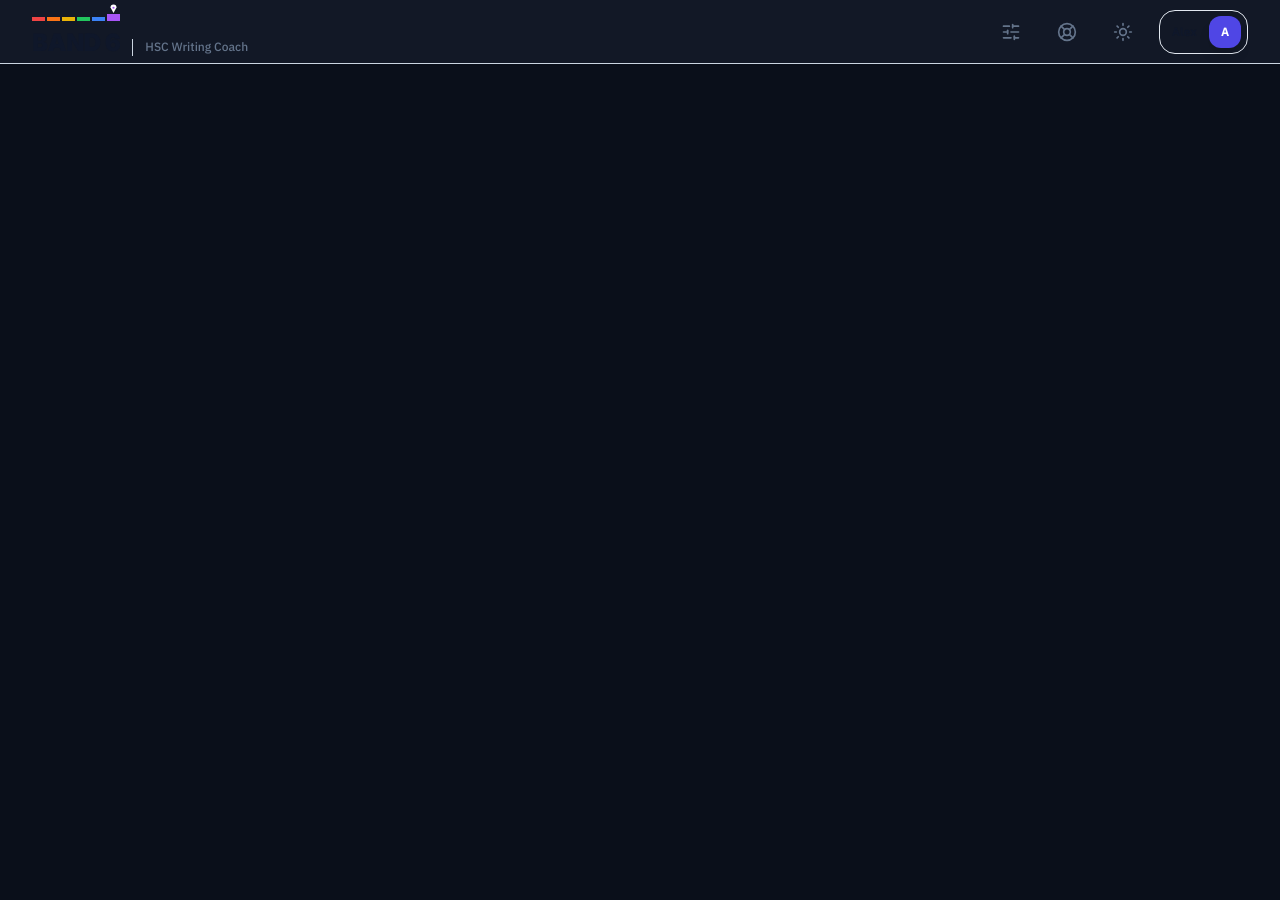
Test: the tools popover follows the non-modal contract › runs the chosen tool and dismisses itself
Click the button named "Admin tools": (1011, 32) [991, 12, 1031, 52]
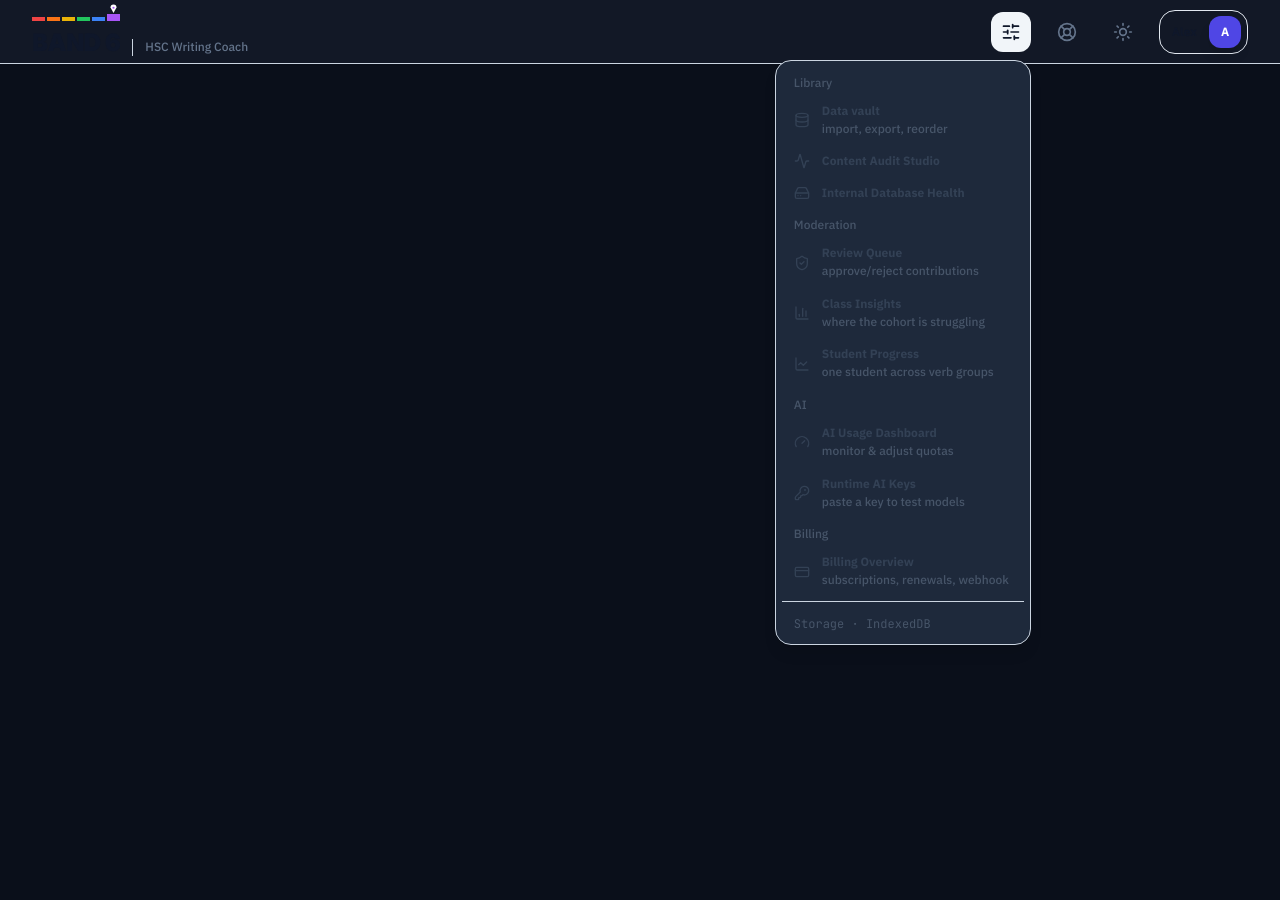
Click the button with aria-label "Runtime AI Keys (paste a key to test models)": (903, 493) [782, 468, 1024, 518]
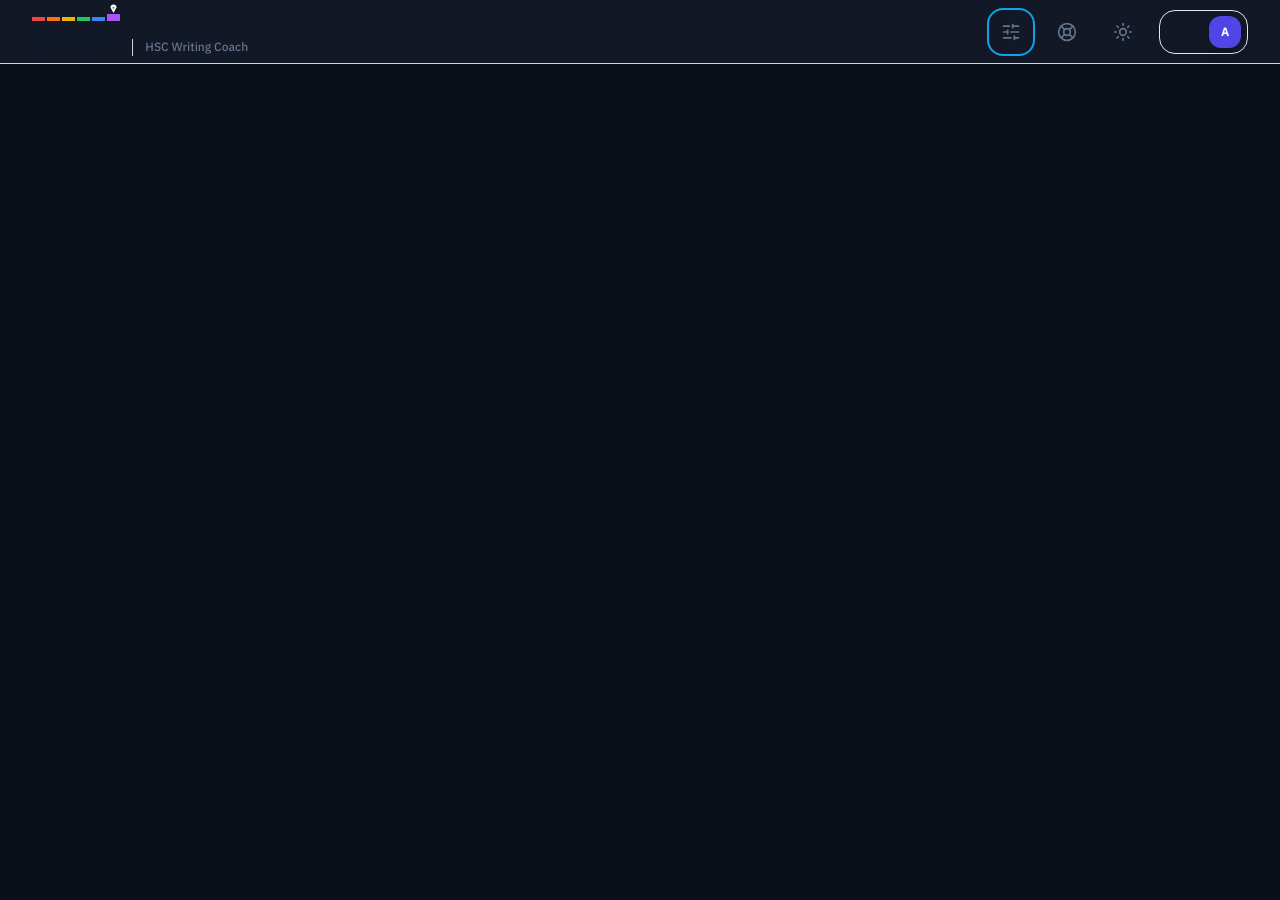
Expected: the dialog is gone
